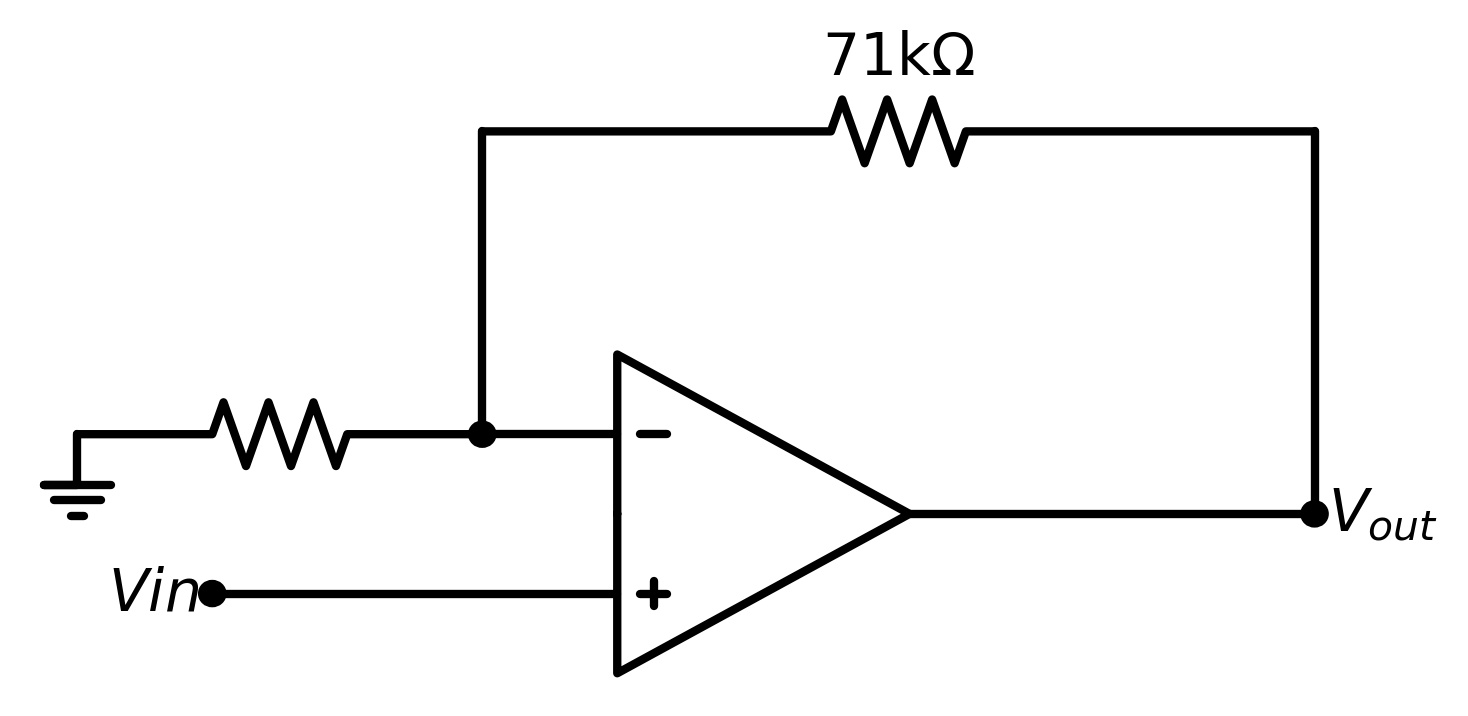ground: (32, 469, 123, 534)
opamp: (570, 349, 933, 677)
resistor: (201, 378, 360, 483), (826, 90, 974, 177)
